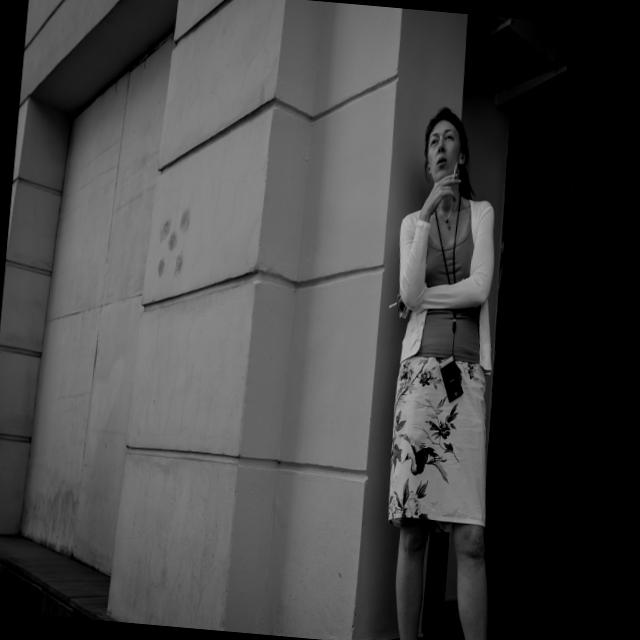smoke: (443, 157, 462, 190)
